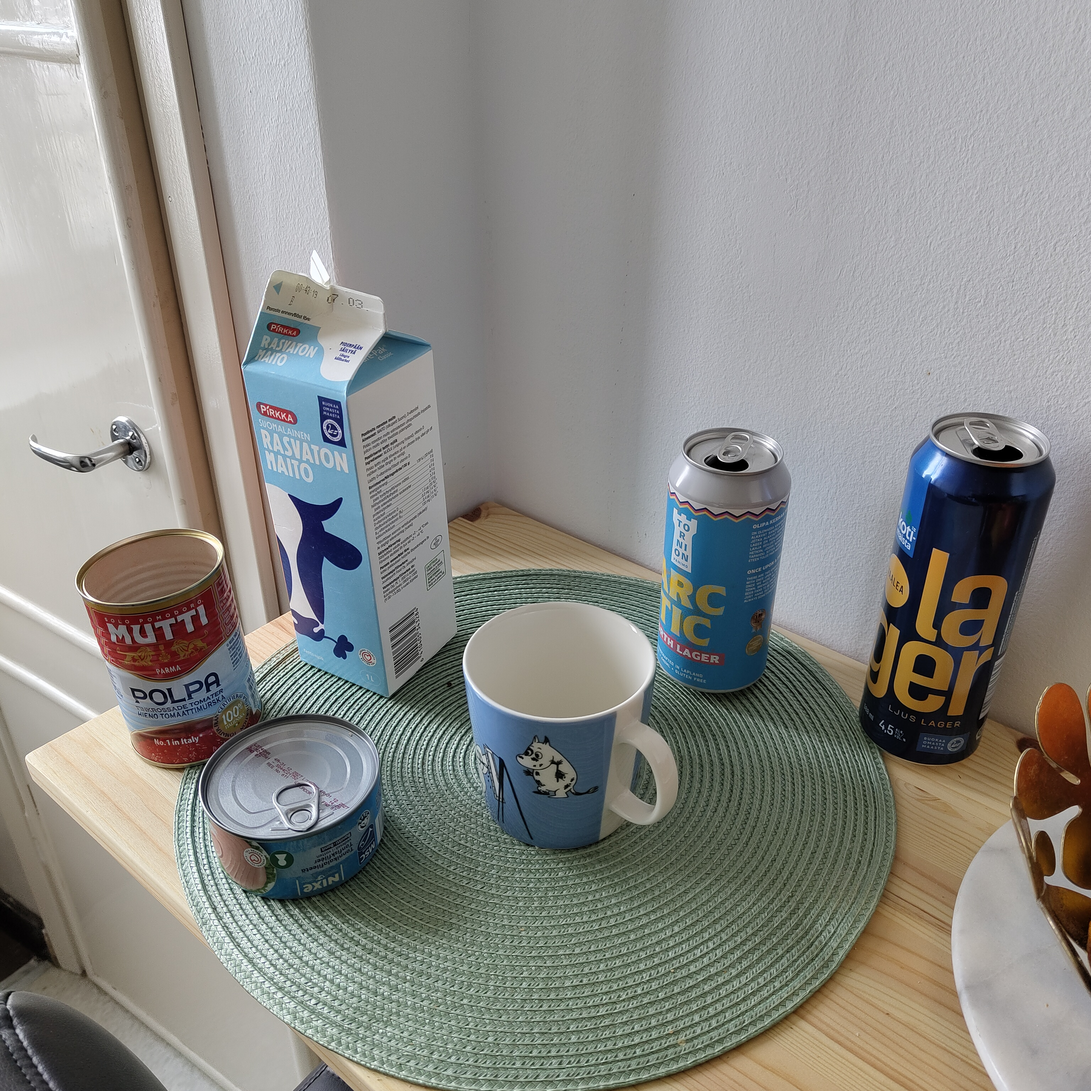Dryckeskartong: (240, 251, 458, 700)
Konservburk: (75, 528, 264, 769), (198, 713, 385, 901)
Pantburk: (858, 411, 1056, 766), (655, 426, 791, 694)
